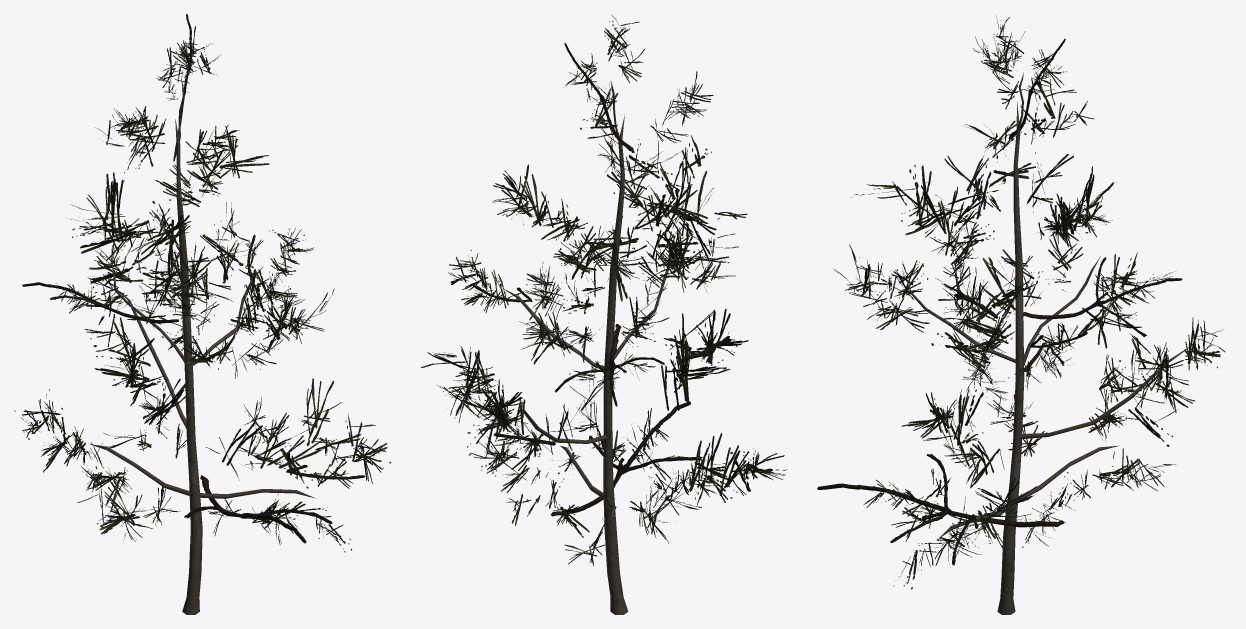
The model's file is pine_sapling_small_c.glb.
3 views of the same model, side by side, from view 1: azimuth 30°, elevation 25°; view 2: azimuth 150°, elevation 25°; view 3: azimuth 270°, elevation 25° (orthographic). The views are drawn at different scales.
Parts seen in each view (by area): view 1: pine_sapling_small_c; view 2: pine_sapling_small_c; view 3: pine_sapling_small_c.
Boxes of the visible parts, bbox=[...] form: pine_sapling_small_c: bbox=[14, 14, 391, 614]; pine_sapling_small_c: bbox=[421, 15, 787, 614]; pine_sapling_small_c: bbox=[817, 15, 1225, 614].
Bounding box in the file's own units: 0.5311 × 0.9658 × 0.6061.
Materials: 2 (2 with a texture image).
